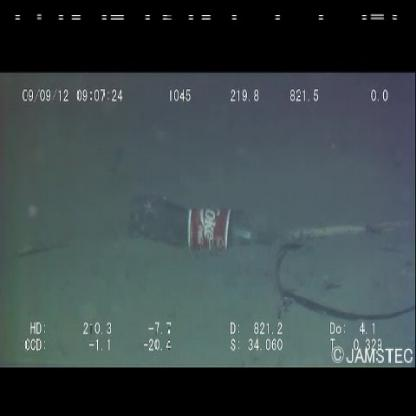Rác: (122, 186, 288, 266)
